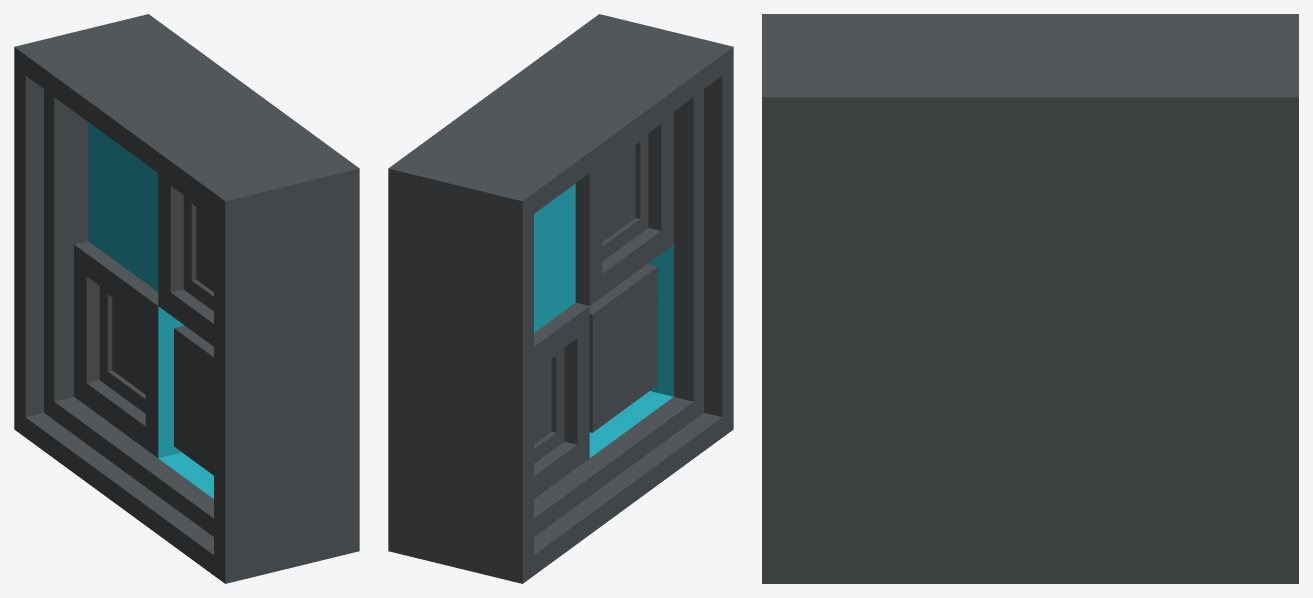
File: EspacioContenidoPuertaExteriorNS.gltf
3 views of the same model, side by side, from view 1: azimuth 30°, elevation 25°; view 2: azimuth 150°, elevation 25°; view 3: azimuth 270°, elevation 25° (orthographic). The views are drawn at different scales.
Parts seen in each view (by area): view 1: Cubo.64; view 2: Cubo.64; view 3: Cubo.64.
Part boxes in pixels (box(x1,y1,x2,y2)): Cubo.64: box(14, 14, 359, 583); Cubo.64: box(388, 14, 733, 583); Cubo.64: box(762, 14, 1298, 583).
Bounding box in the file's own units: 0.7352 × 2 × 2.
Materials: 1 (1 with a texture image).
